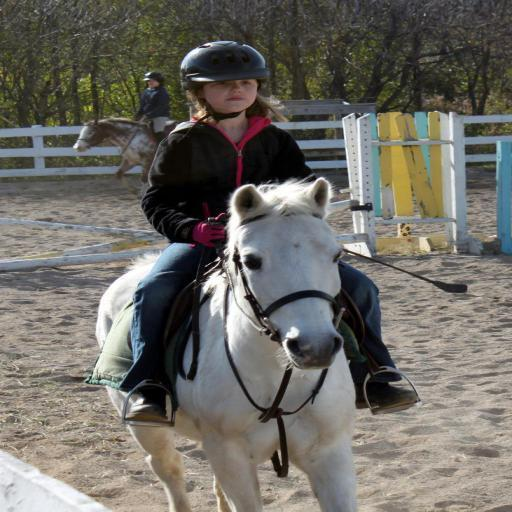horse: (95, 172, 365, 512), (69, 115, 172, 199)
